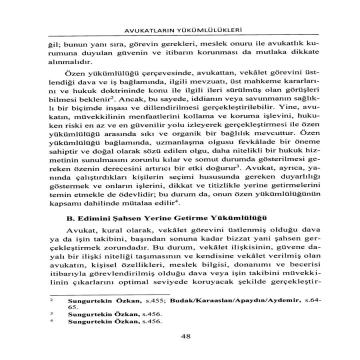footer: (61, 297, 330, 326)
header: (120, 24, 244, 34)
